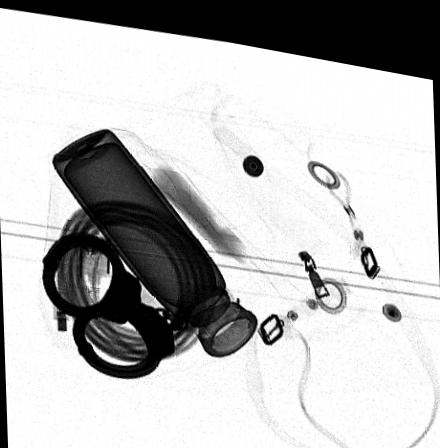HandCuffs: (41, 227, 188, 374)
